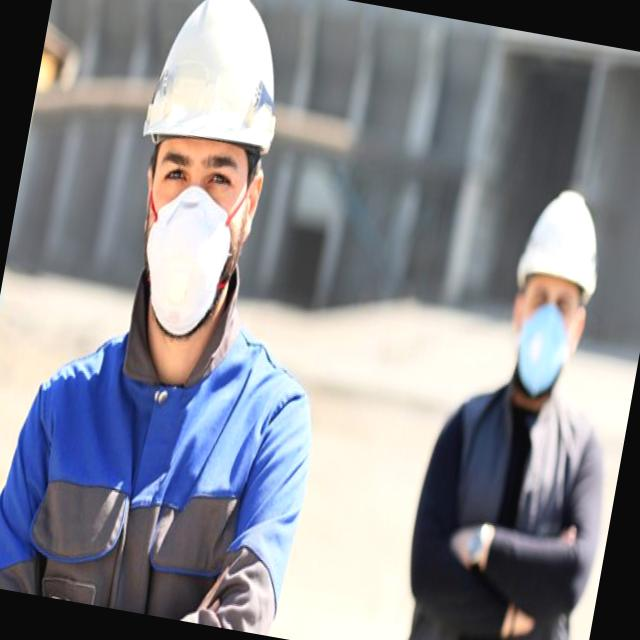helmet: (125, 0, 314, 185)
no-goggles: (132, 132, 258, 205)
no-vest: (0, 280, 336, 638)
